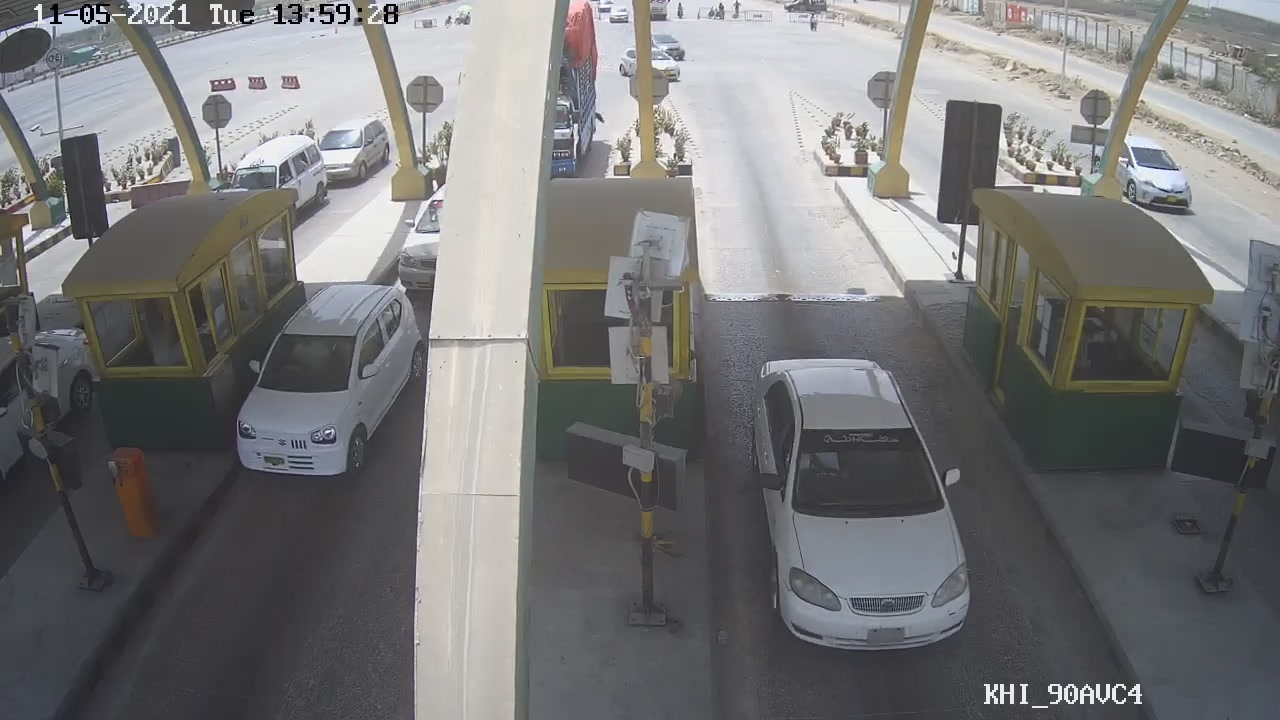F1: (745, 353, 975, 656)
